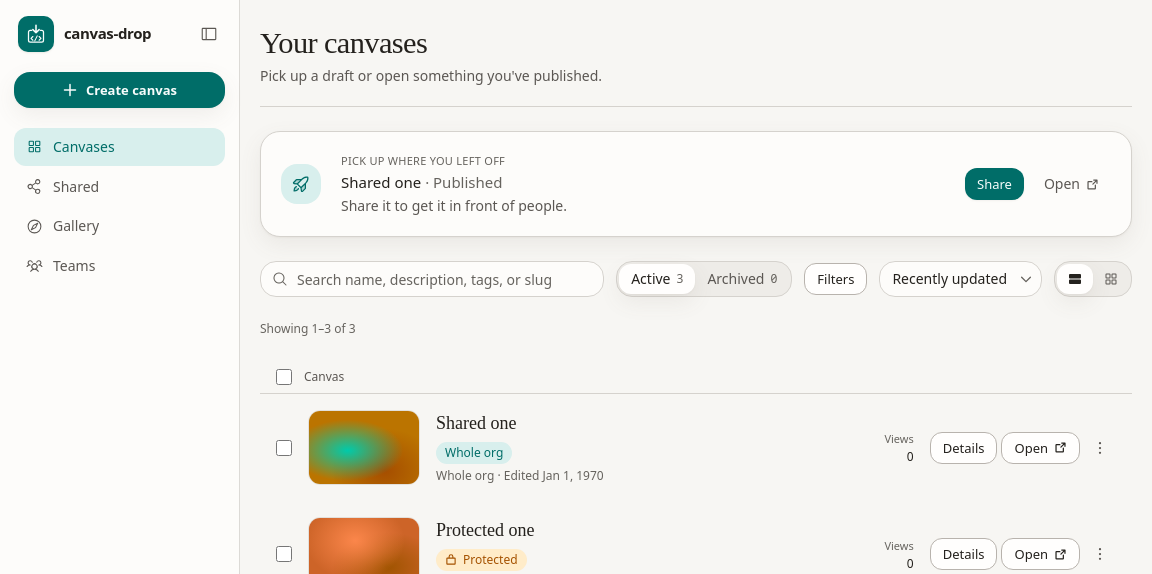
Test: Your canvases — server-side filters (plan 005) › shows owner inventory counts once, with their filter controls
Expected: the link "Protected one" is shown, [436,520,534,540]
What coordinates should you click on to do the following:
click the button "Filters"
I would click on:
 (836, 279)
Its box is [804,263,867,295].
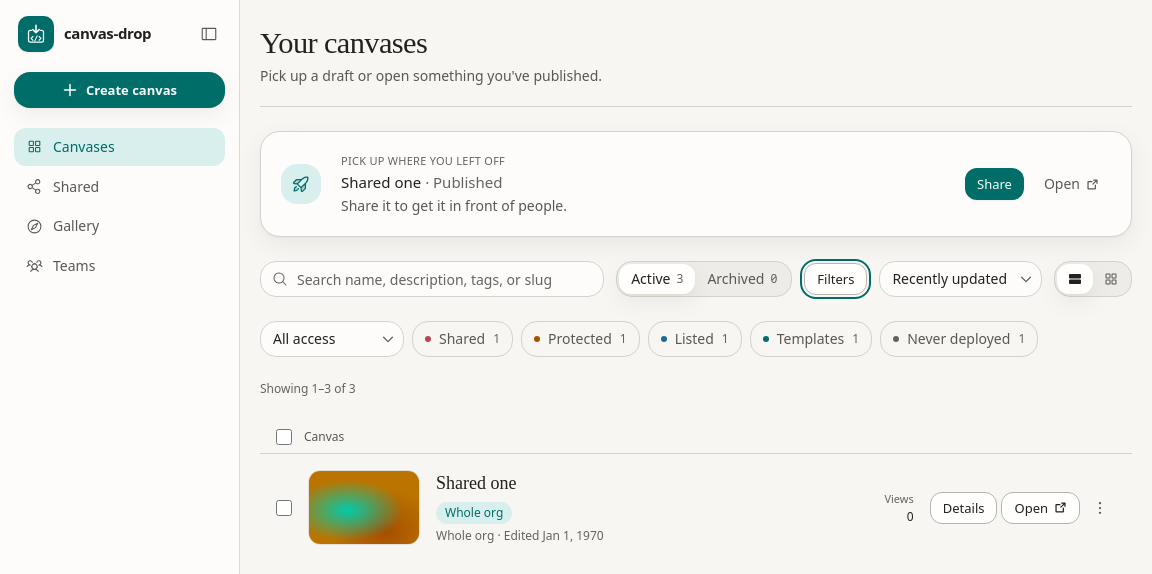
Expected: the button "Shared 1" is shown, [412,321,513,357]
Expected: the button "Protected 1" is shown, [521,321,640,357]
Expected: the button "Templates 1" is shown, [750,321,872,357]
